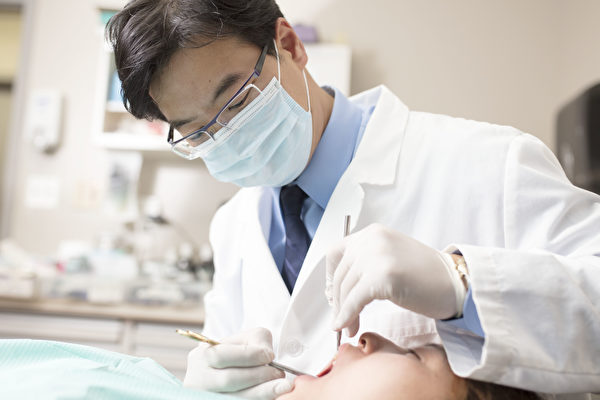mask: (200, 79, 312, 190)
